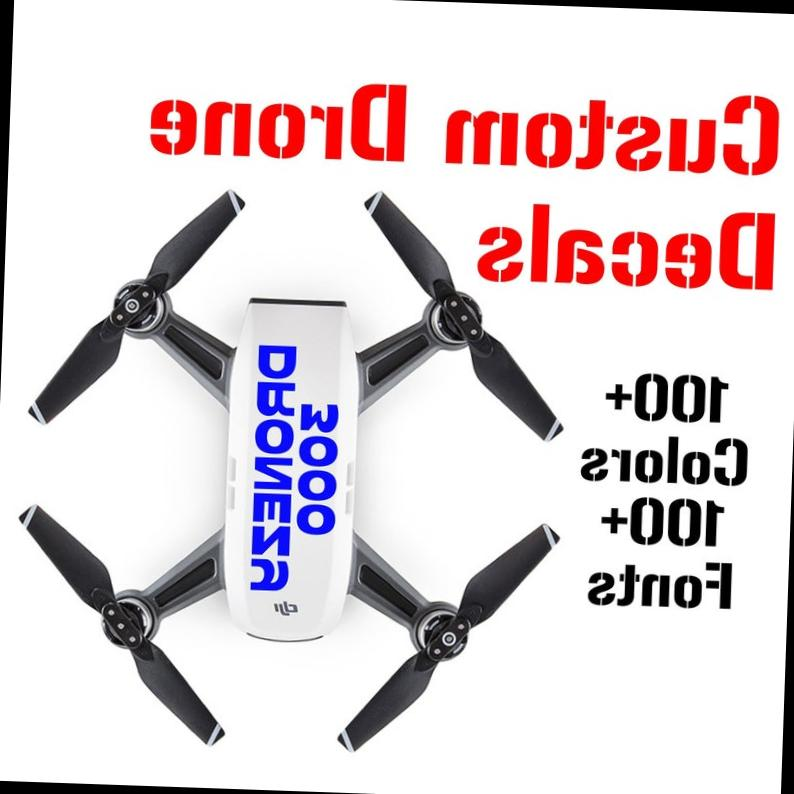drone: (2, 157, 562, 773)
